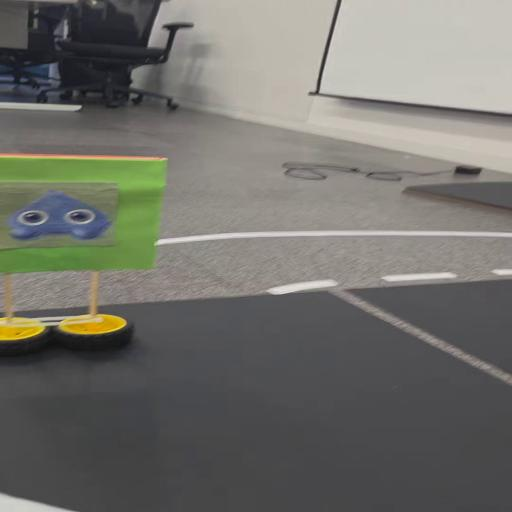Sign_B: (2, 148, 166, 356)
